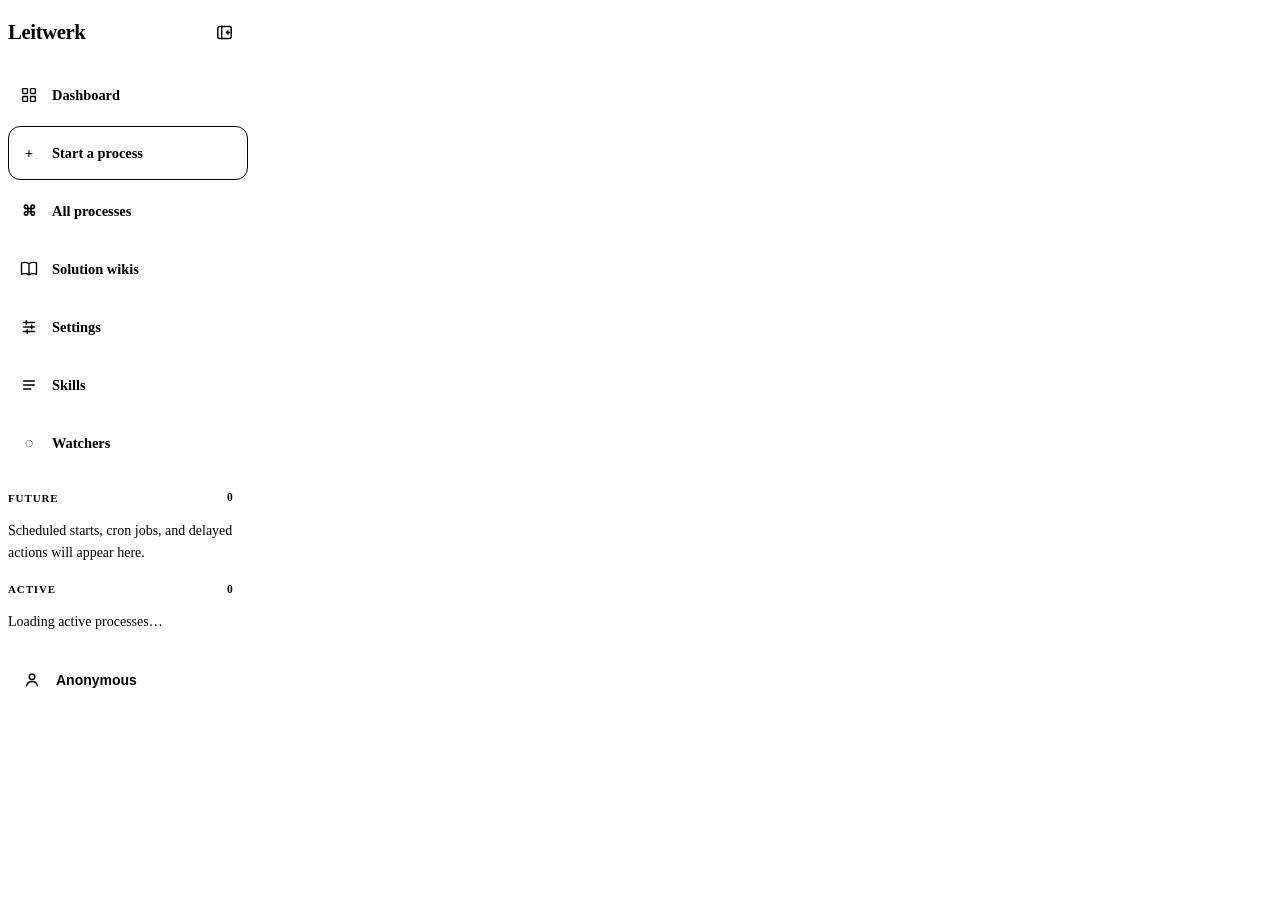
Scenario: Sidebar › shows the loading state in the current-processes popover
Click the button named "Collapse sidebar" at (224, 32), box [200,8,248,56]
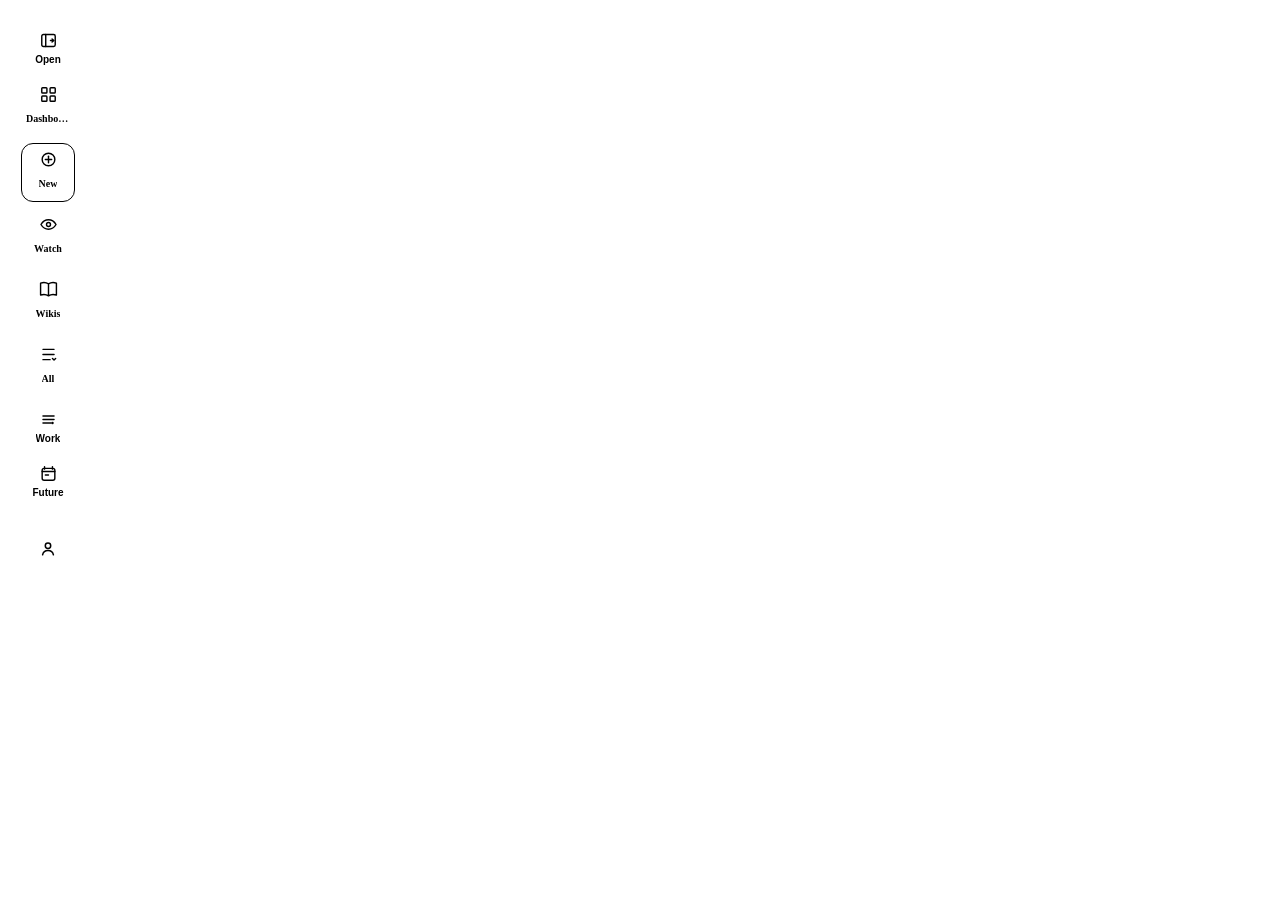
Click the button "Work" at (48, 427), box [24,403,72,451]
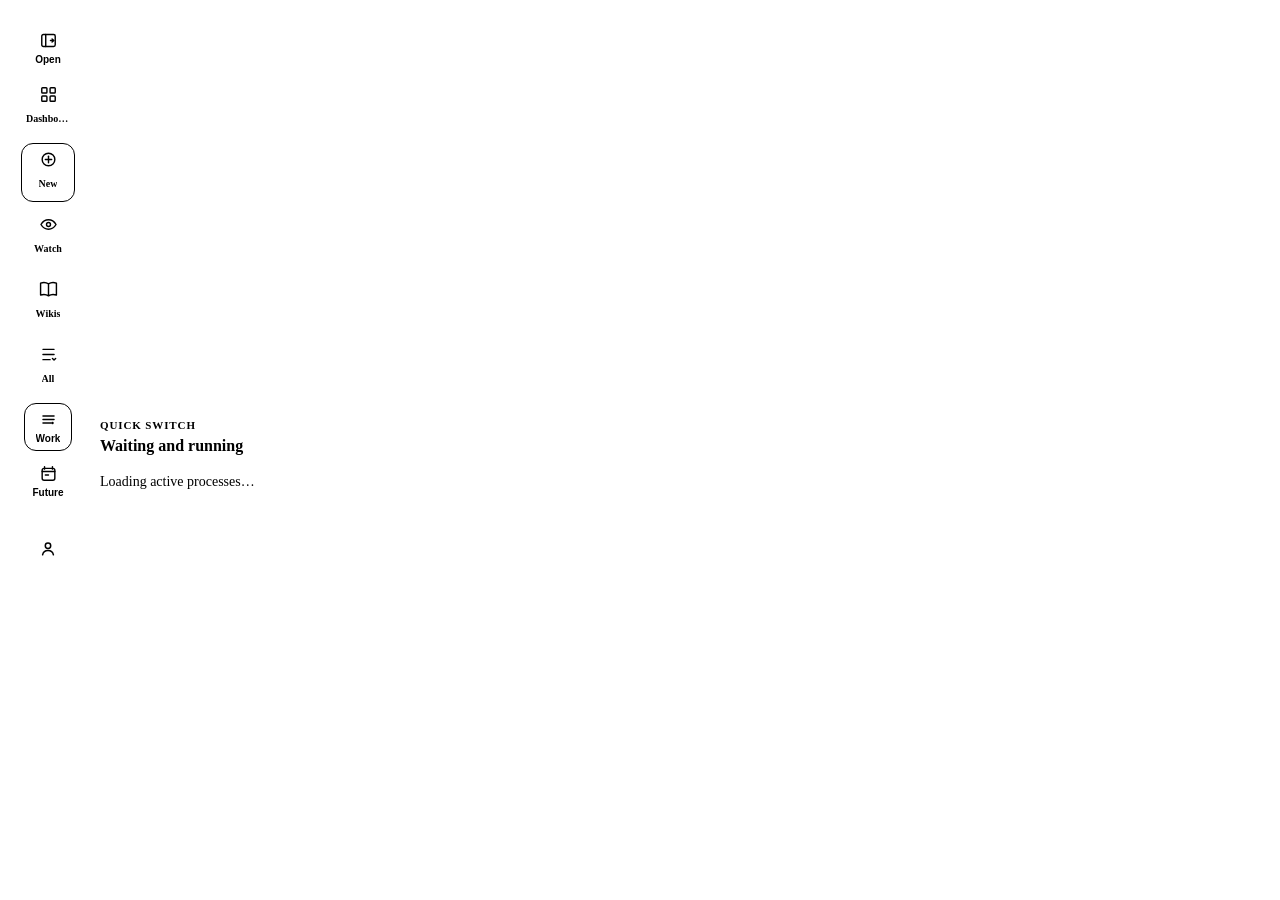
Now the dialog shows "Loading active processes…", box [100,474,255,489]
